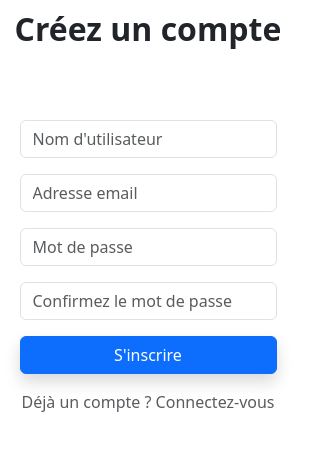
Scenario: RegisterView.vue › devrait afficher un message d'erreur si l'inscription échoue
Type "testuser" into the field with placeholder "Nom d".
click(148, 139); type("testuser")  # box left=20, top=120, right=276, bottom=158
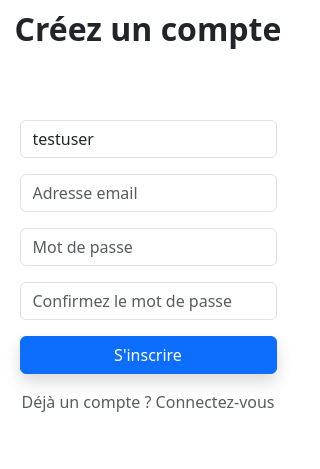
Type "test@example.com" into the field with placeholder "Adresse email".
click(148, 193); type("test@example.com")  # box left=20, top=174, right=276, bottom=212
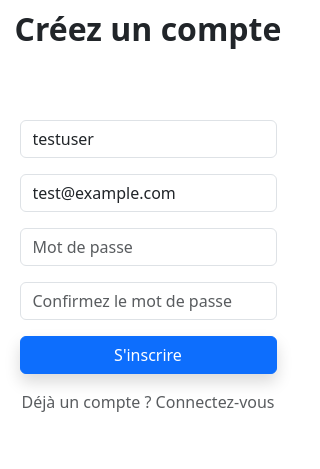
Type "password123" into the password field with placeholder "Mot de passe".
click(148, 247); type("password123")  # box left=20, top=228, right=276, bottom=266
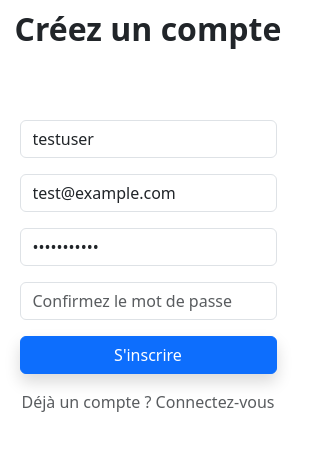
Type "password123" into the password field with placeholder "Confirmez le mot de passe".
click(148, 301); type("password123")  # box left=20, top=282, right=276, bottom=320
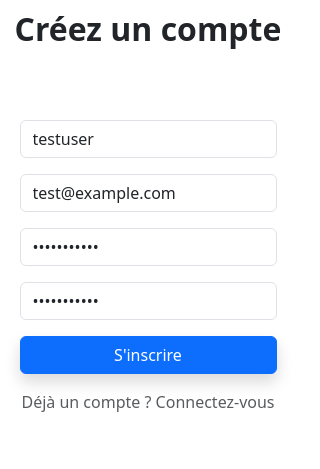
Submit the form, box left=20, top=120, right=276, bottom=390
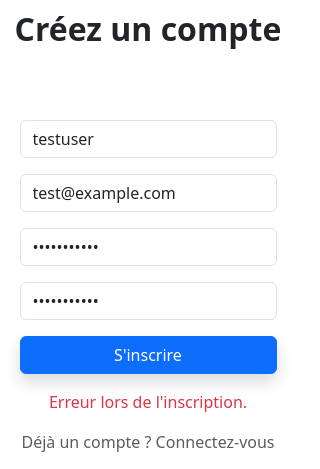
Result: the text "Erreur lors de l'inscription." is shown at left=49, top=390, right=247, bottom=414
